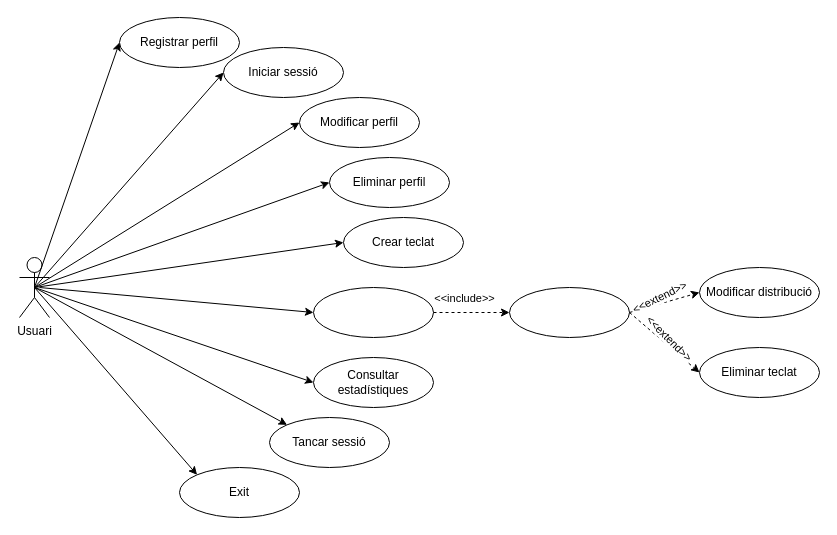
The diagram is 837 pixels wide and 535 high, and some of its shapes have lost their labels. The centre of each missing label's shape, as x and y in pixels:
"Consultar teclat" goes at (x=569, y=312).
"Llistar teclat" goes at (x=373, y=312).
